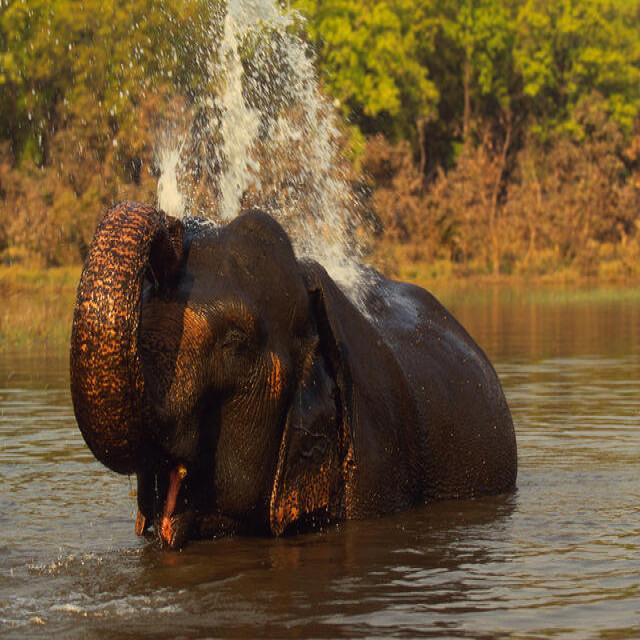Elephant: (63, 180, 553, 550)
